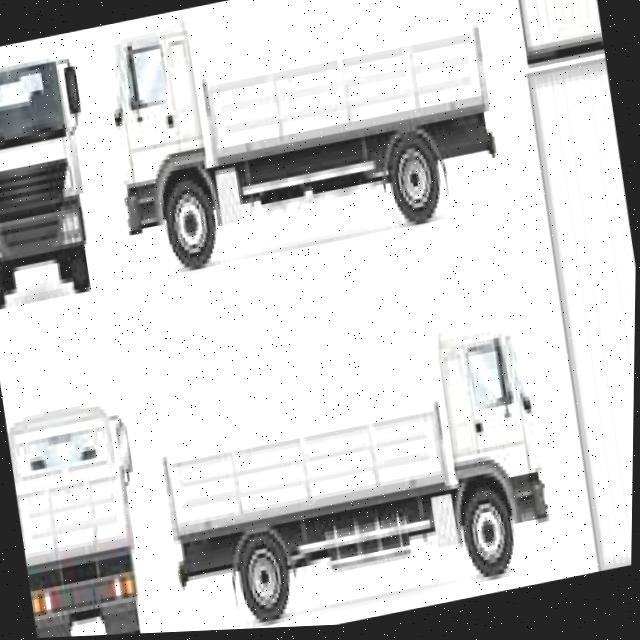truck: (151, 309, 558, 634), (96, 0, 506, 285), (498, 0, 640, 581), (5, 399, 152, 640)
